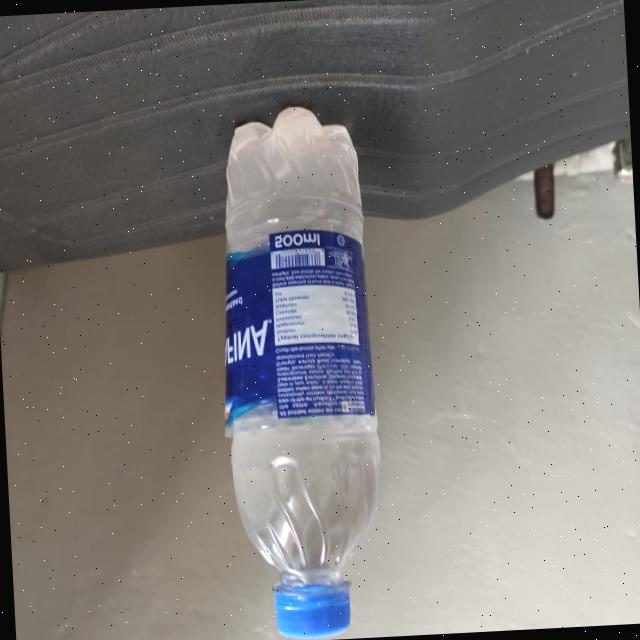bottle: (199, 101, 392, 640)
cap: (267, 574, 361, 640)
label: (212, 222, 378, 432)
